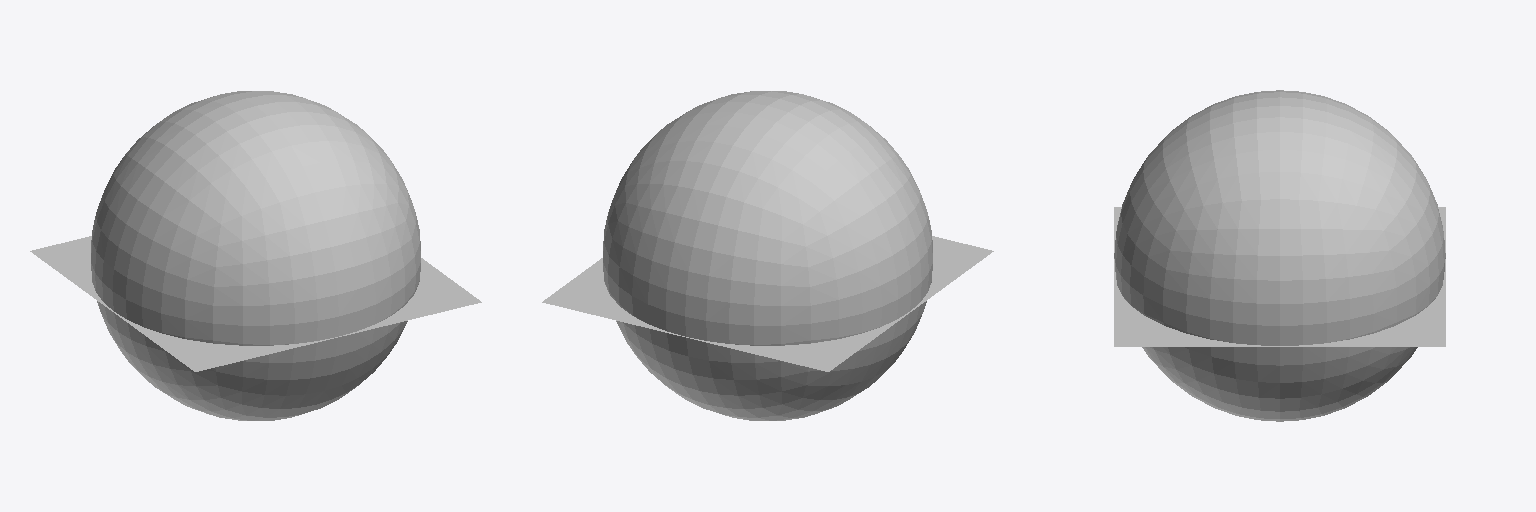
File: SimpleSkyDome_ReExport.obj
The picture shows the model from 3 angles: view 1: azimuth 30°, elevation 25°; view 2: azimuth 150°, elevation 25°; view 3: azimuth 270°, elevation 25°; orthographic projection.
Parts seen in each view (by area): view 1: Roundcube, Plane; view 2: Roundcube, Plane; view 3: Roundcube, Plane.
Boxes of the visible parts, <box> form: Roundcube: <box>91,91,420,420</box>; Plane: <box>30,236,481,371</box>; Roundcube: <box>603,91,932,420</box>; Plane: <box>542,236,993,371</box>; Roundcube: <box>1114,90,1445,421</box>; Plane: <box>1114,207,1445,346</box>.
Size of the model in its own units: 500 by 500 by 500.